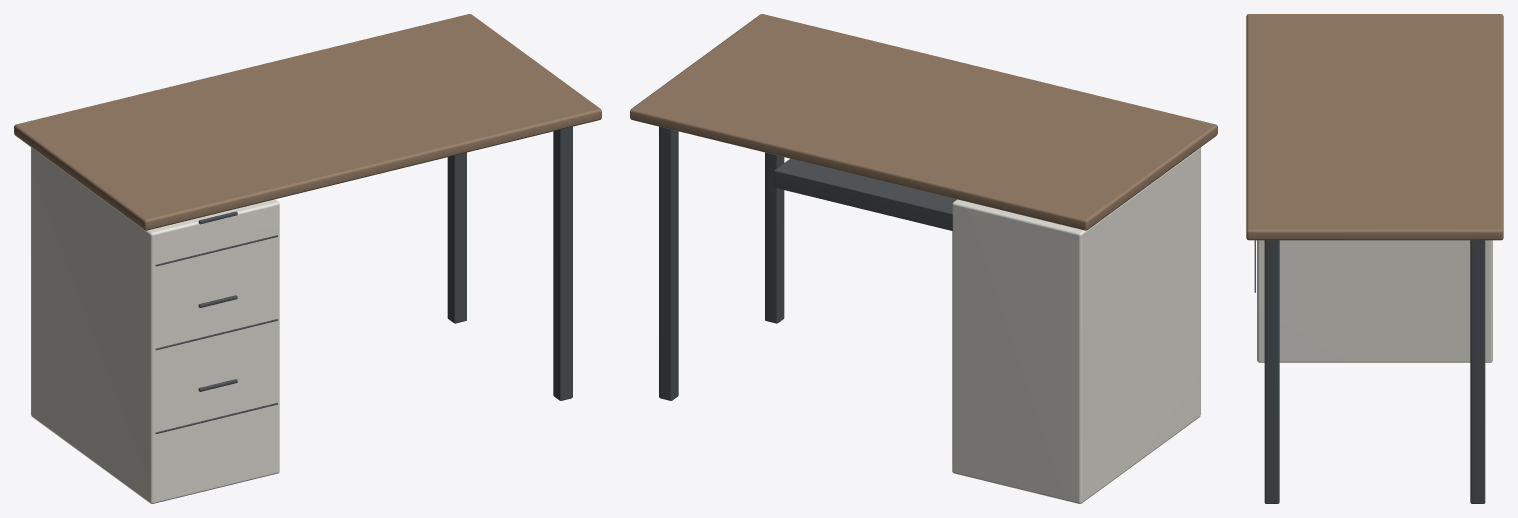
The model's file is office-desk.glb.
3 views of the same model, side by side, from view 1: azimuth 30°, elevation 25°; view 2: azimuth 150°, elevation 25°; view 3: azimuth 270°, elevation 25° (orthographic). The views are drawn at different scales.
Parts seen in each view (by area): view 1: Desktop; view 2: Desktop; view 3: Desktop.
Boxes of the visible parts, <box> form: Desktop: <box>14,14,601,503</box>; Desktop: <box>630,14,1217,503</box>; Desktop: <box>1246,14,1503,503</box>.
Size of the model in its own units: 1.2 by 0.73 by 0.6.
